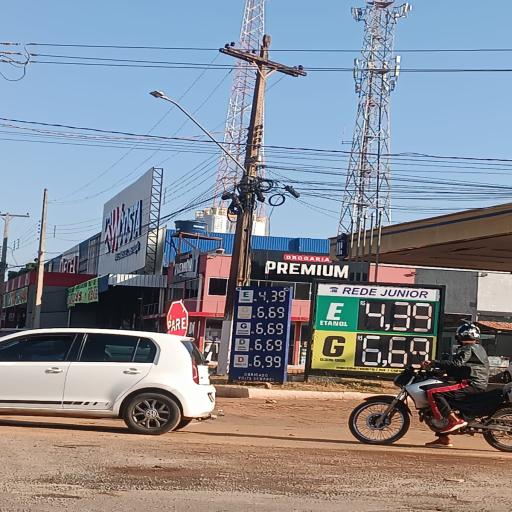ETANOL: (316, 296, 352, 332), (239, 290, 253, 302)
GASOLINA AD: (238, 322, 252, 336)
GASOLINA C: (315, 331, 350, 364), (239, 306, 251, 319)
S10: (234, 355, 248, 367)
S500: (235, 338, 249, 351)
placa: (312, 285, 440, 370), (231, 286, 294, 372)
preco: (360, 300, 433, 333), (362, 334, 432, 367), (254, 353, 282, 368), (254, 338, 284, 352), (257, 305, 287, 319), (256, 321, 285, 335), (257, 289, 287, 302)
